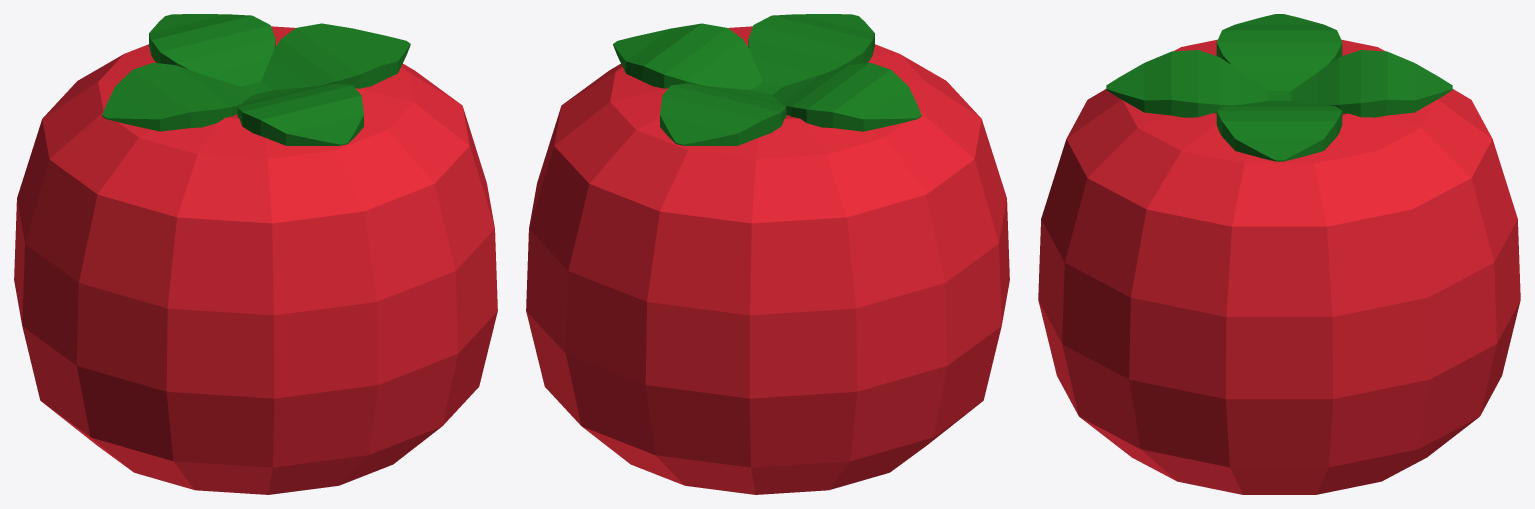
File: Tomate.fbx
The picture shows the model from 3 angles, left to right: view 1: azimuth 30°, elevation 25°; view 2: azimuth 150°, elevation 25°; view 3: azimuth 270°, elevation 25°; orthographic projection.
Visible parts, largest first — view 1: Cube.002; view 2: Cube.002; view 3: Cube.002.
Part boxes in pixels (<box>): Cube.002: <box>14,14,497,494</box>; Cube.002: <box>526,14,1009,494</box>; Cube.002: <box>1038,14,1520,494</box>.
Bounding box in the file's own units: 294 × 264 × 302.
